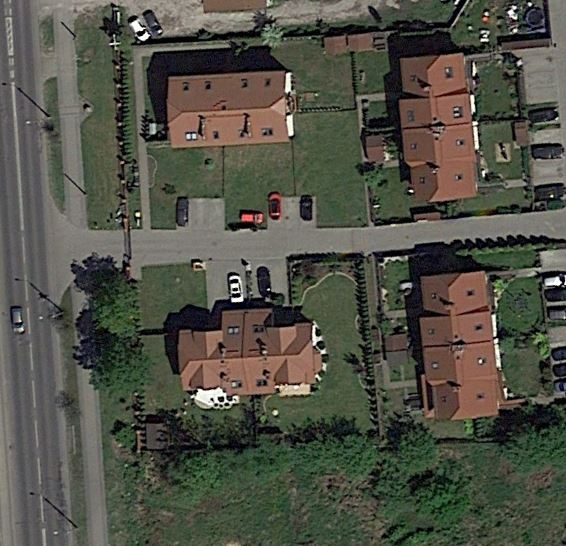block of flats: (164, 72, 301, 153)
terrace house: (175, 298, 328, 403), (417, 266, 511, 426), (395, 51, 482, 205)
